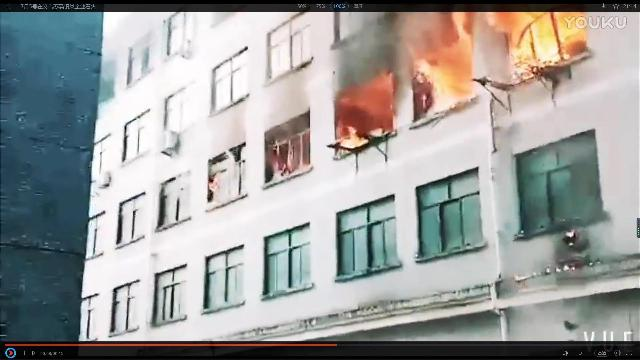fire: (427, 46, 473, 104), (532, 12, 560, 62), (510, 31, 534, 75), (488, 12, 532, 32), (451, 12, 474, 47), (562, 25, 584, 55), (341, 125, 367, 147)
